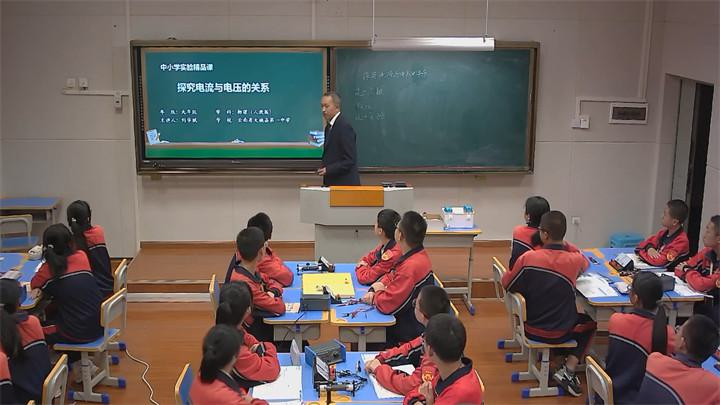listen: (36, 222, 92, 337), (416, 315, 487, 401), (667, 307, 720, 404), (615, 270, 664, 374), (199, 324, 246, 405), (647, 184, 689, 269), (390, 198, 431, 280), (230, 223, 275, 277)
